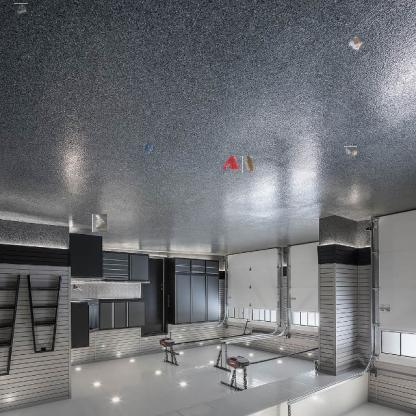dirty: (346, 34, 364, 52), (92, 214, 107, 232), (242, 155, 253, 173), (344, 146, 357, 158), (15, 3, 28, 15)
liquid: (220, 154, 240, 170), (144, 143, 154, 153)
